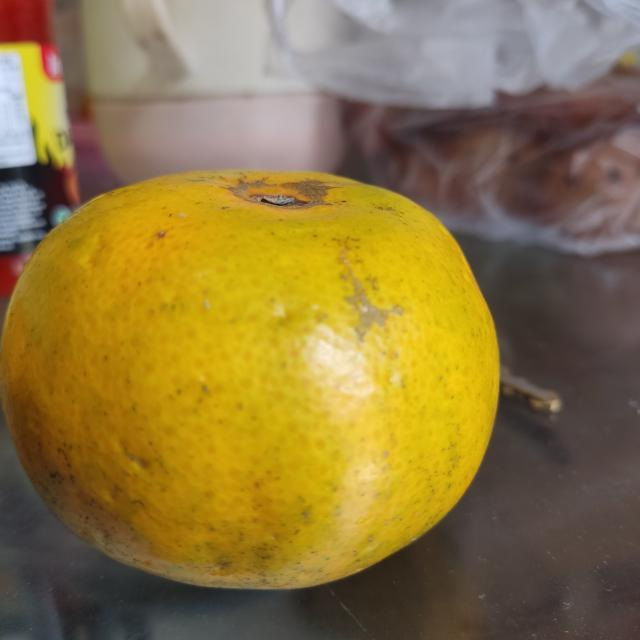orange: (0, 163, 505, 595)
